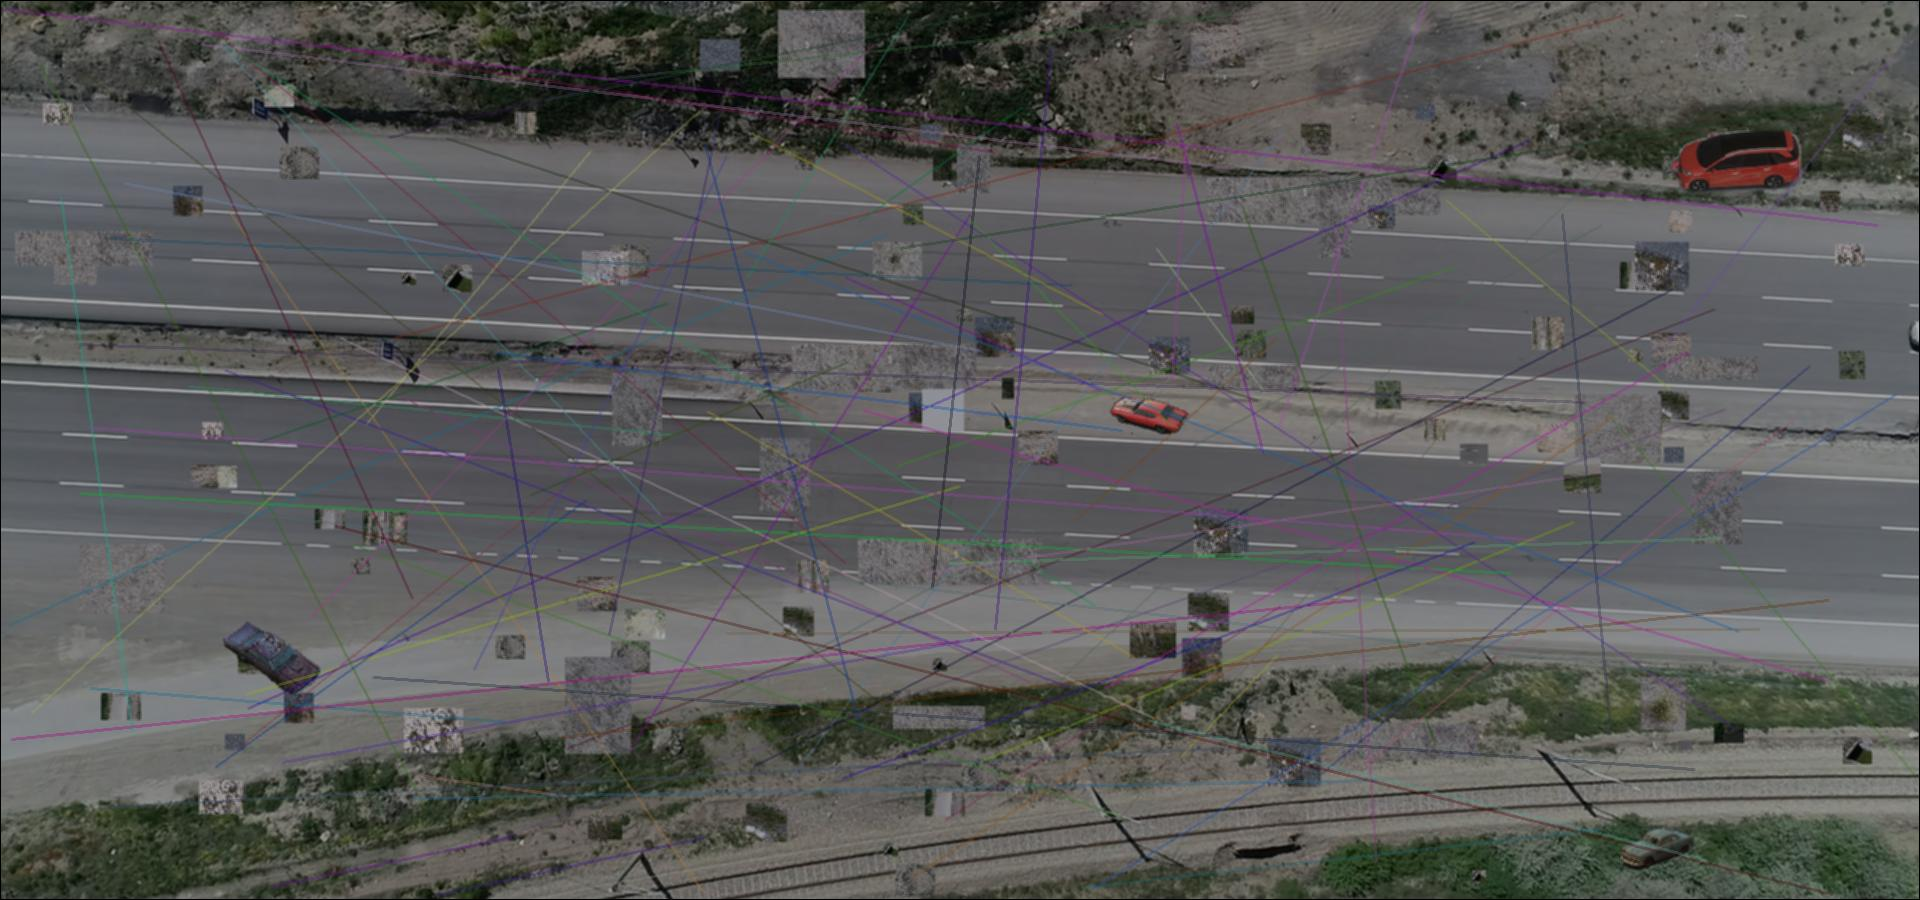arac: (219, 620, 323, 696), (1679, 131, 1801, 192), (1621, 825, 1695, 869), (1109, 394, 1190, 433), (1671, 146, 1718, 179)
